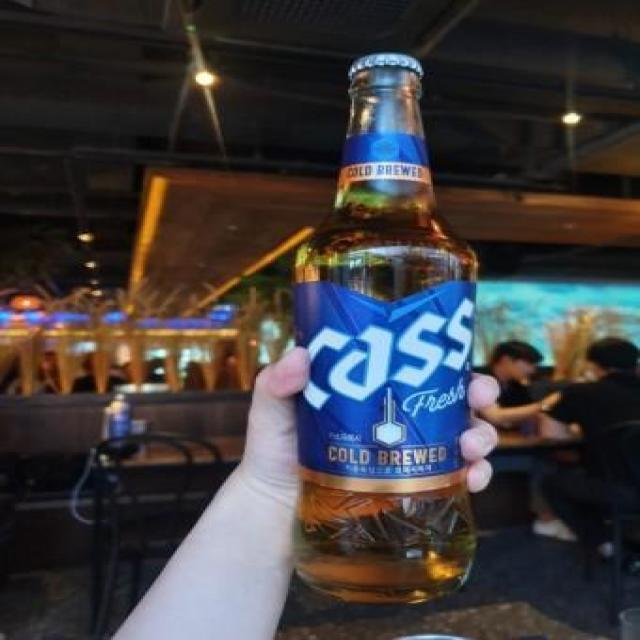beer-bottle: (284, 44, 490, 611)
